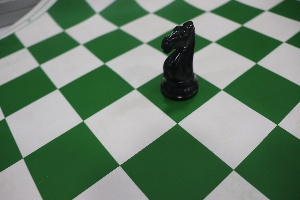black_horse: (151, 10, 210, 112)
